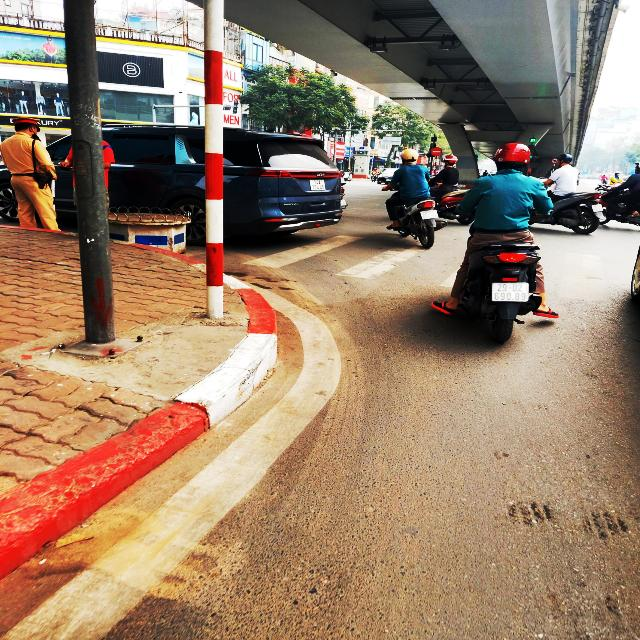license_plate: (493, 283, 531, 302), (311, 180, 327, 192)
